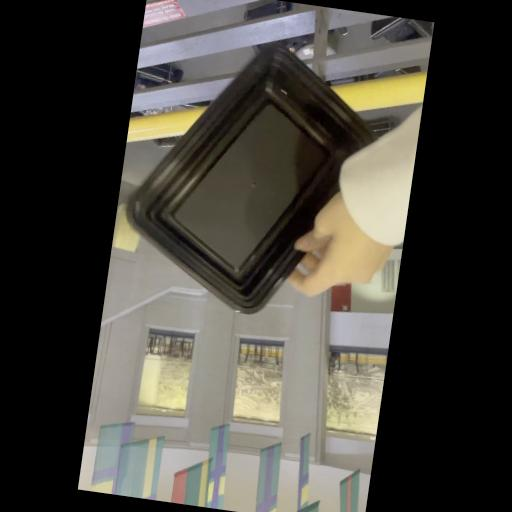rigid_plastic_container: (119, 32, 389, 324)
